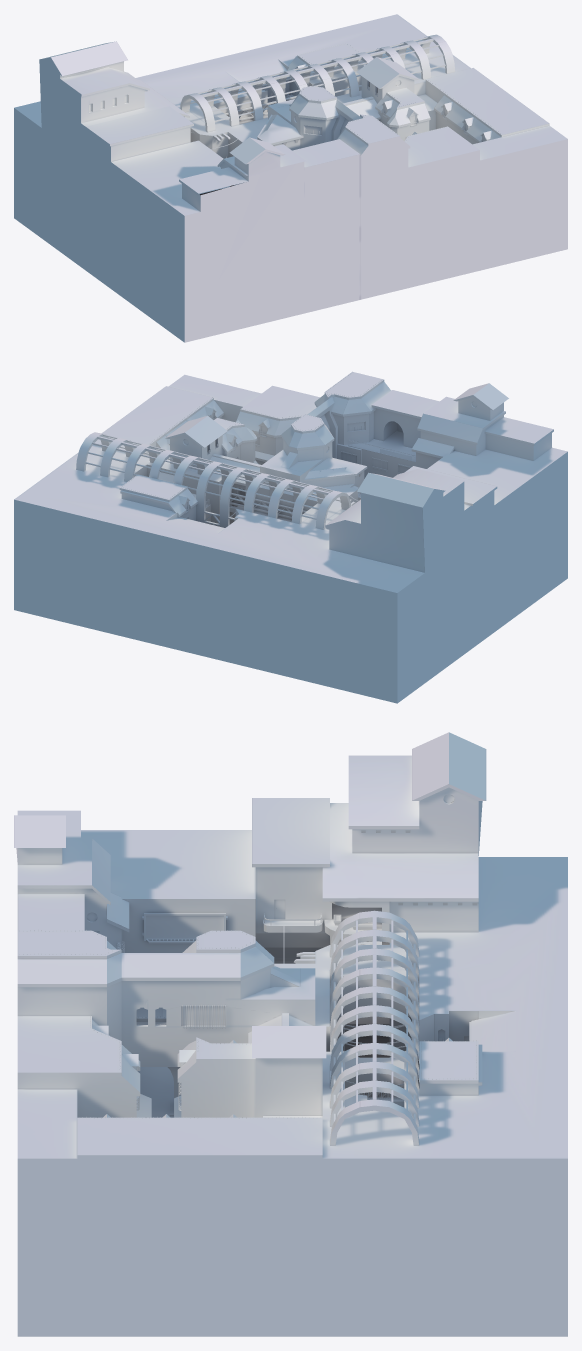
Rendered from zdm2_baked.glb.
3 renders of one model, top to bottom at view 1: azimuth 30°, elevation 25°; view 2: azimuth 150°, elevation 25°; view 3: azimuth 270°, elevation 25°, orthographic. The views are drawn at different scales.
Visible parts, largest first — view 1: zdm2; view 2: zdm2; view 3: zdm2.
Part boxes in pixels (bbox=[...]): zdm2: bbox=[14, 14, 567, 342]; zdm2: bbox=[14, 371, 567, 703]; zdm2: bbox=[14, 732, 567, 1336].
Bounding box in the file's own units: 77.2 × 35.95 × 59.6.
Materials: 1 (1 with a texture image).
